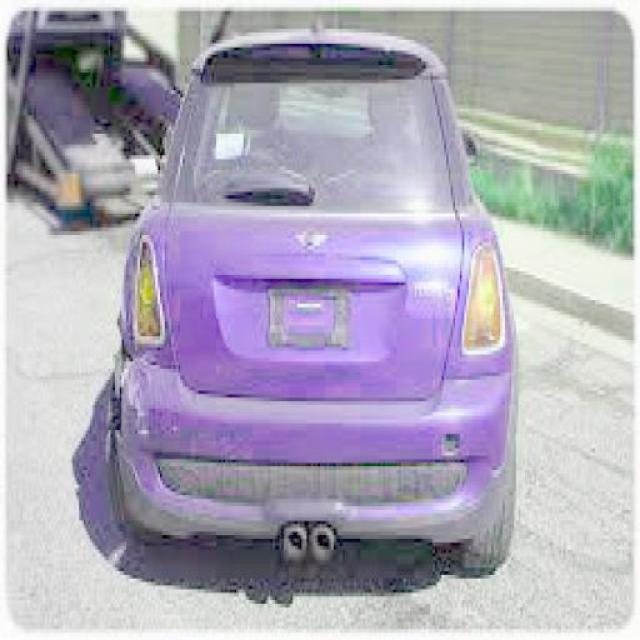car damage: (113, 321, 159, 442)
